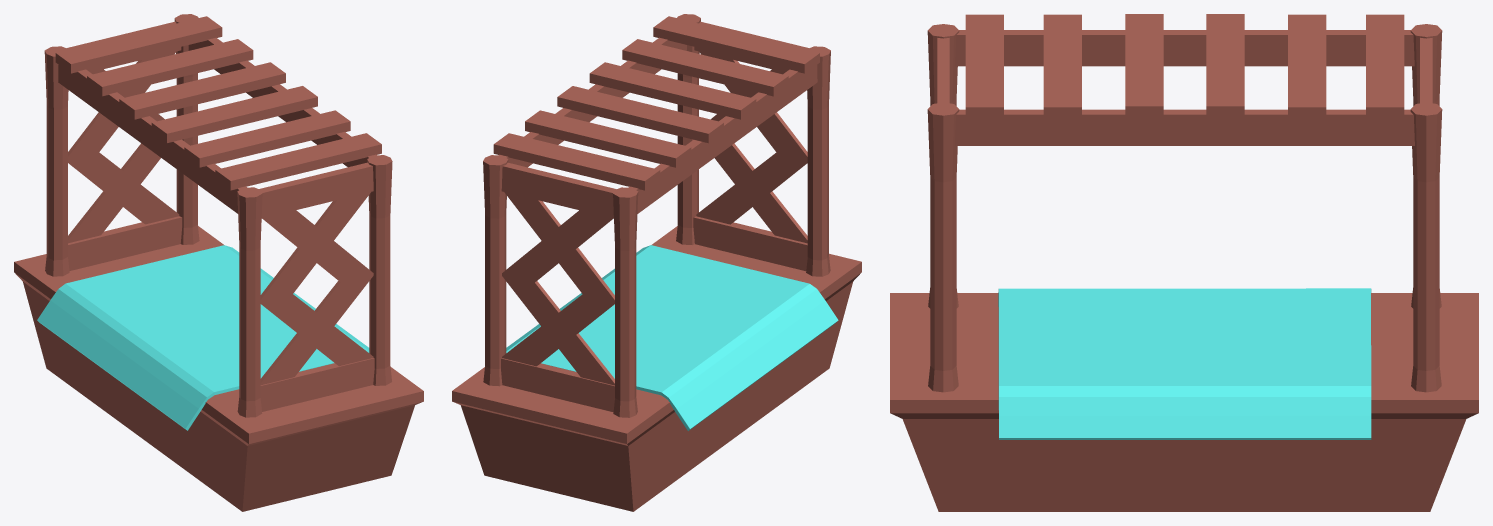
The model's file is StandA.fbx.
3 views of the same model, side by side, from view 1: azimuth 30°, elevation 25°; view 2: azimuth 150°, elevation 25°; view 3: azimuth 270°, elevation 25° (orthographic). The views are drawn at different scales.
Visible parts, largest first — view 1: Cube.012, Cube.009, Cube.010; view 2: Cube.012, Cube.009, Cube.010; view 3: Cube.012, Cube.009, Cube.010.
Boxes of the visible parts, x1,y1,x2,y2 form: Cube.012: (44,14,392,417); Cube.009: (14,226,423,511); Cube.010: (37,245,369,430); Cube.012: (483,14,830,417); Cube.009: (452,226,861,511); Cube.010: (506,245,838,430); Cube.012: (927,14,1442,392); Cube.009: (890,293,1478,511); Cube.010: (998,288,1371,439).
Bounding box in the file's own units: 254 × 369 × 485.
